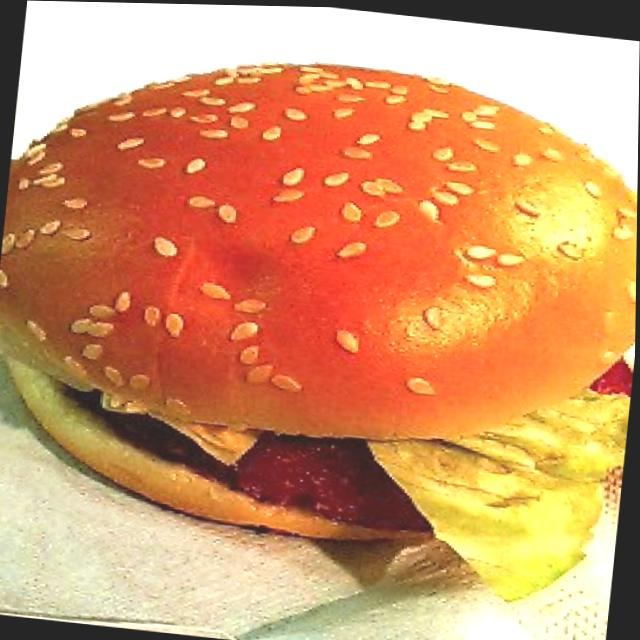汉堡快餐: (0, 14, 640, 579)
